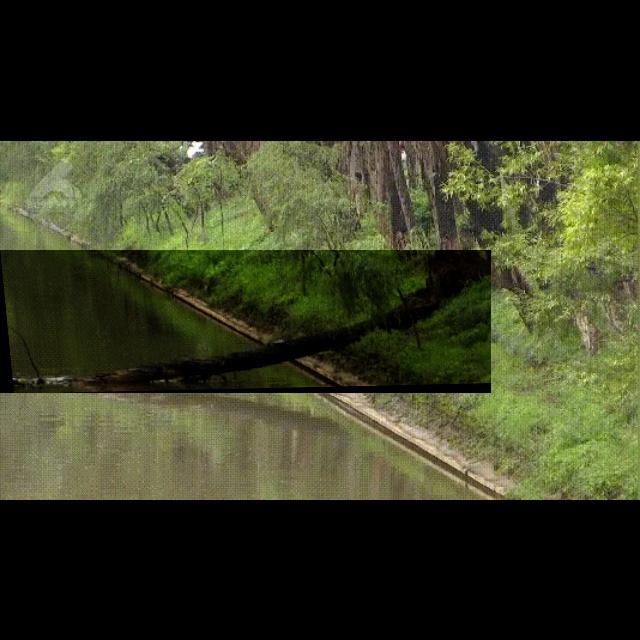Fallen Tree: (0, 250, 492, 394)
